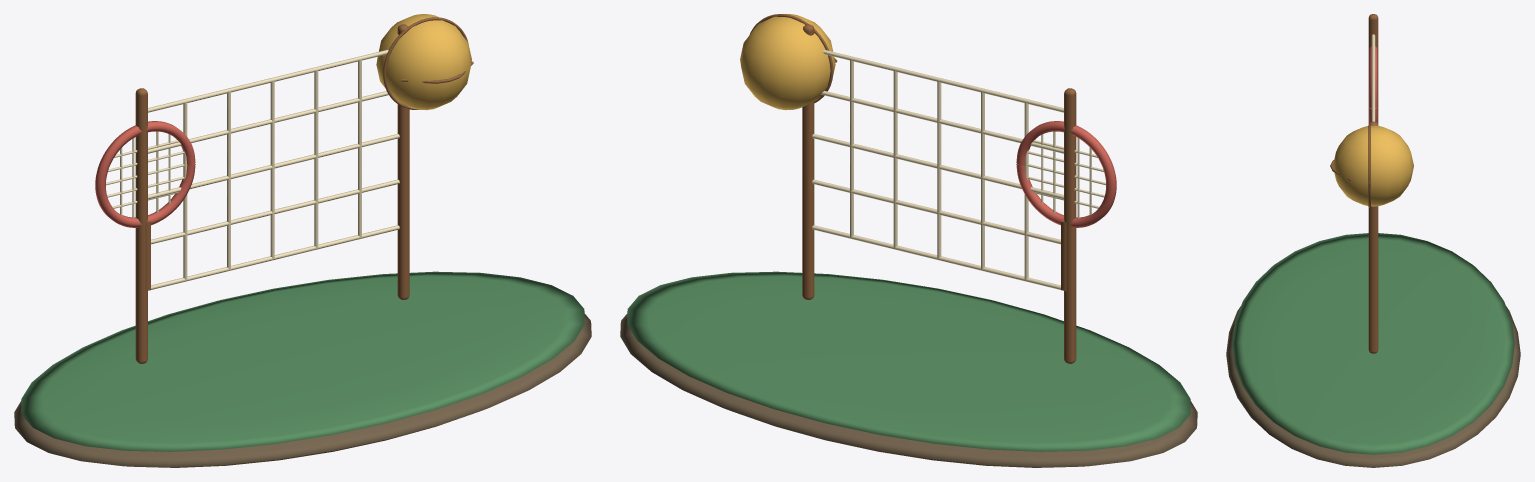
File: tennis.glb
The picture shows the model from 3 angles, left to right: view 1: azimuth 30°, elevation 25°; view 2: azimuth 150°, elevation 25°; view 3: azimuth 270°, elevation 25°; orthographic projection. The views are drawn at different scales.
Visible parts, largest first — view 1: tennis_surface_01, tennis_surface_03, tennis_surface_00, tennis_surface_02, tennis_surface_04, tennis_surface_05; view 2: tennis_surface_01, tennis_surface_03, tennis_surface_00, tennis_surface_04, tennis_surface_02, tennis_surface_05; view 3: tennis_surface_01, tennis_surface_00, tennis_surface_04, tennis_surface_02, tennis_surface_05, tennis_surface_03.
Part boxes in pixels (x1=…): tennis_surface_01: x1=21, y1=271, x2=584, y2=451; tennis_surface_03: x1=106, y1=49, x2=399, y2=289; tennis_surface_00: x1=14, y1=314, x2=591, y2=467; tennis_surface_02: x1=135, y1=17, x2=473, y2=363; tennis_surface_04: x1=376, y1=14, x2=471, y2=110; tennis_surface_05: x1=95, y1=121, x2=195, y2=227; tennis_surface_01: x1=627, y1=271, x2=1190, y2=451; tennis_surface_03: x1=812, y1=49, x2=1105, y2=289; tennis_surface_00: x1=620, y1=314, x2=1197, y2=467; tennis_surface_04: x1=740, y1=14, x2=835, y2=110; tennis_surface_02: x1=750, y1=14, x2=1076, y2=363; tennis_surface_05: x1=1016, y1=121, x2=1116, y2=227; tennis_surface_01: x1=1232, y1=233, x2=1514, y2=454; tennis_surface_00: x1=1226, y1=306, x2=1520, y2=467; tennis_surface_04: x1=1333, y1=125, x2=1413, y2=206; tennis_surface_02: x1=1330, y1=14, x2=1378, y2=353; tennis_surface_05: x1=1369, y1=46, x2=1377, y2=123; tennis_surface_03: x1=1371, y1=34, x2=1375, y2=121.
Size of the model in its own units: 4.56 by 2.71 by 2.5.
